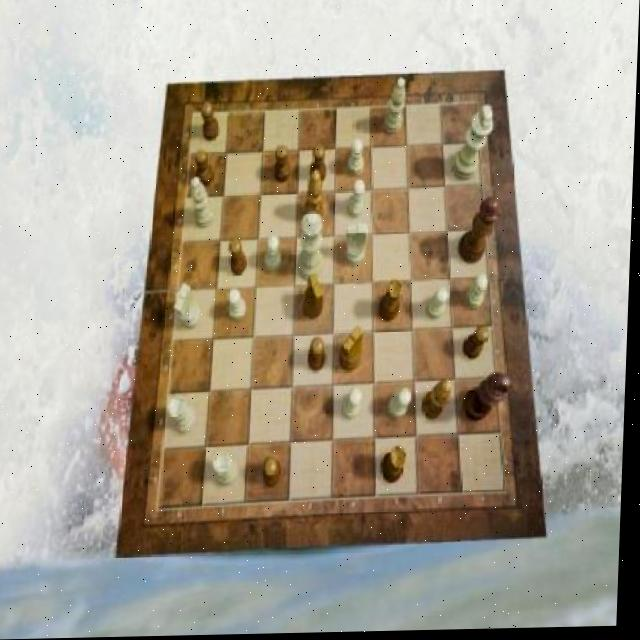bishop: (424, 383, 456, 423), (306, 171, 327, 226)
black-bishop: (466, 376, 515, 424)
black-king: (343, 327, 367, 373), (306, 274, 327, 320)
black-knight: (466, 329, 493, 362), (202, 102, 222, 142), (196, 150, 217, 188), (230, 239, 250, 277), (311, 146, 329, 185), (275, 146, 293, 183), (311, 339, 329, 374), (267, 458, 287, 489)
black-pawn: (460, 201, 504, 267)
black-queen: (381, 281, 406, 323), (384, 448, 411, 486)
black-rook: (192, 177, 218, 230), (385, 81, 407, 137)
white-bishop: (453, 107, 495, 182)
white-king: (177, 284, 205, 331), (347, 224, 371, 267)
white-knight: (467, 276, 491, 311), (427, 290, 451, 323), (392, 390, 416, 421), (349, 181, 367, 220), (266, 237, 284, 274), (345, 390, 365, 423), (229, 289, 249, 322), (349, 140, 366, 178)
white-pawn: (300, 214, 328, 284)
white-queen: (170, 396, 200, 435), (218, 452, 243, 487)
